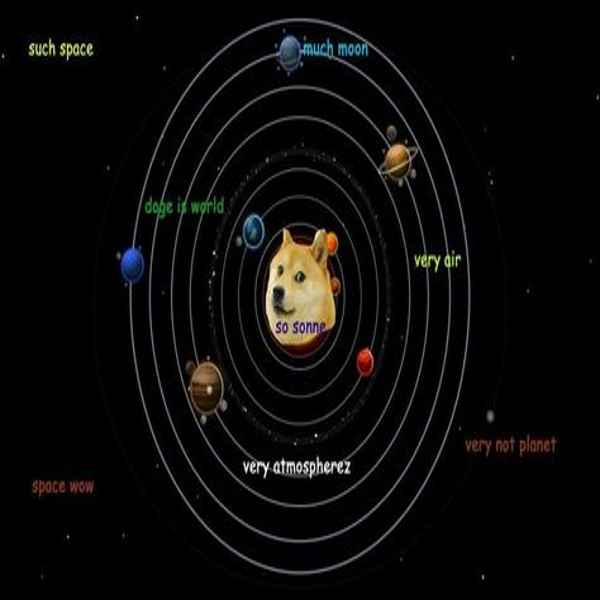doge: (246, 228, 342, 349)
